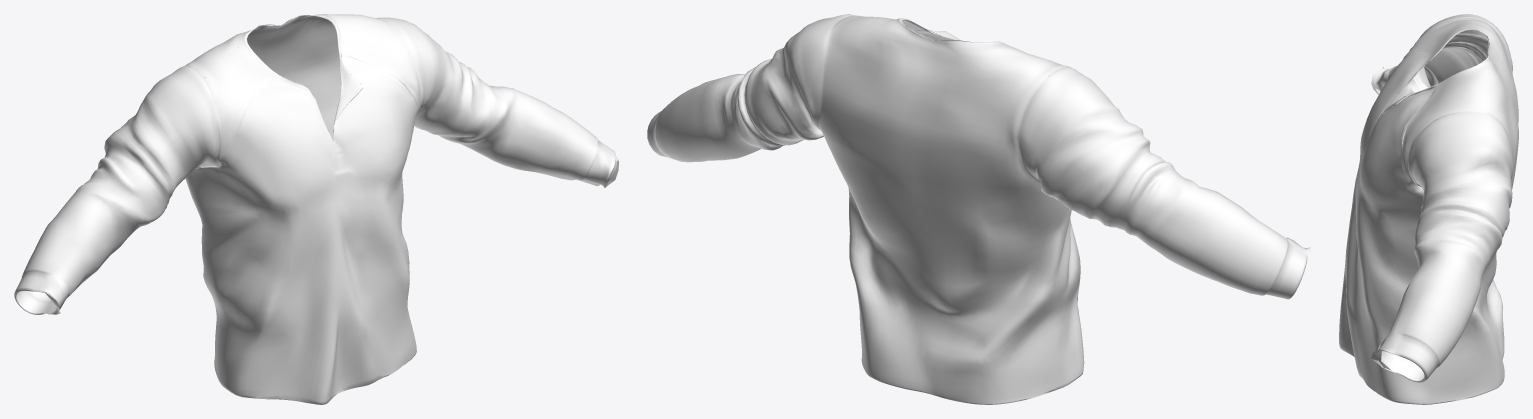
The model's file is LongSleeve.glb.
3 renders of one model, left to right at view 1: azimuth 30°, elevation 25°; view 2: azimuth 150°, elevation 25°; view 3: azimuth 270°, elevation 25°, orthographic. The views are drawn at different scales.
Parts seen in each view (by area): view 1: Newport_Shirt_10879; view 2: Newport_Shirt_10879; view 3: Newport_Shirt_10879.
Boxes of the visible parts, bbox=[...] form: Newport_Shirt_10879: bbox=[14, 14, 618, 404]; Newport_Shirt_10879: bbox=[647, 14, 1310, 404]; Newport_Shirt_10879: bbox=[1339, 14, 1518, 404].
Size of the model in its own units: 22.16 by 11.49 by 5.92.
1 material, 1 textured.
